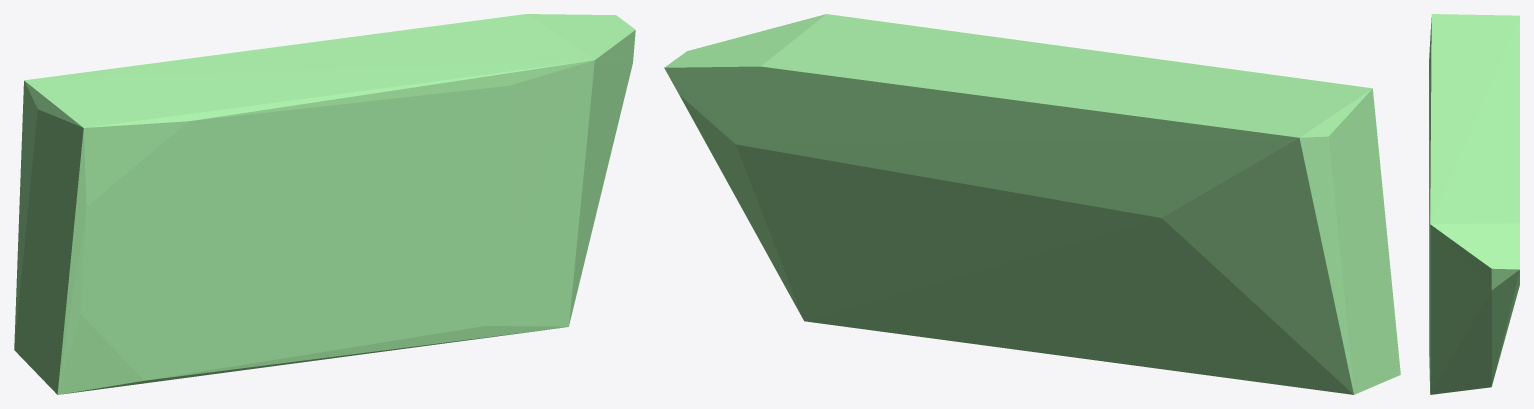
File: UMIRobot_robot_base_coll_4.dae
3 views of the same model, side by side, from view 1: azimuth 30°, elevation 25°; view 2: azimuth 150°, elevation 25°; view 3: azimuth 270°, elevation 25° (orthographic). The views are drawn at different scales.
Parts seen in each view (by area): view 1: node; view 2: node; view 3: node.
Boxes of the visible parts, x1,y1,x2,y2 form: node: (14, 14, 635, 394); node: (664, 14, 1400, 394); node: (1429, 14, 1519, 394).
Bounding box in the file's own units: 0.0491 × 0.0238 × 0.009.
